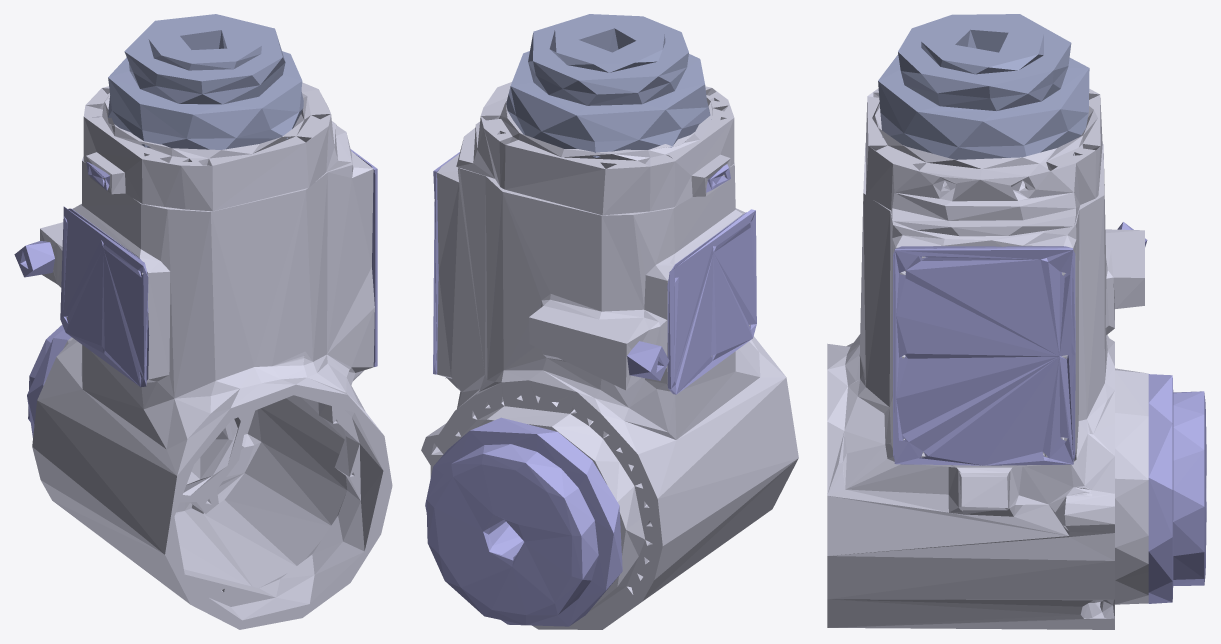
3 views of the same model, side by side, from view 1: azimuth 30°, elevation 25°; view 2: azimuth 150°, elevation 25°; view 3: azimuth 270°, elevation 25° (orthographic). The views are drawn at different scales.
Visible parts, largest first — view 1: J2; view 2: J2; view 3: J2.
Boxes of the visible parts, bbox=[...] form: J2: bbox=[14, 14, 392, 629]; J2: bbox=[421, 14, 798, 629]; J2: bbox=[827, 14, 1206, 629].
Bounding box in the file's own units: 0.2727 × 0.3118 × 0.5239.
